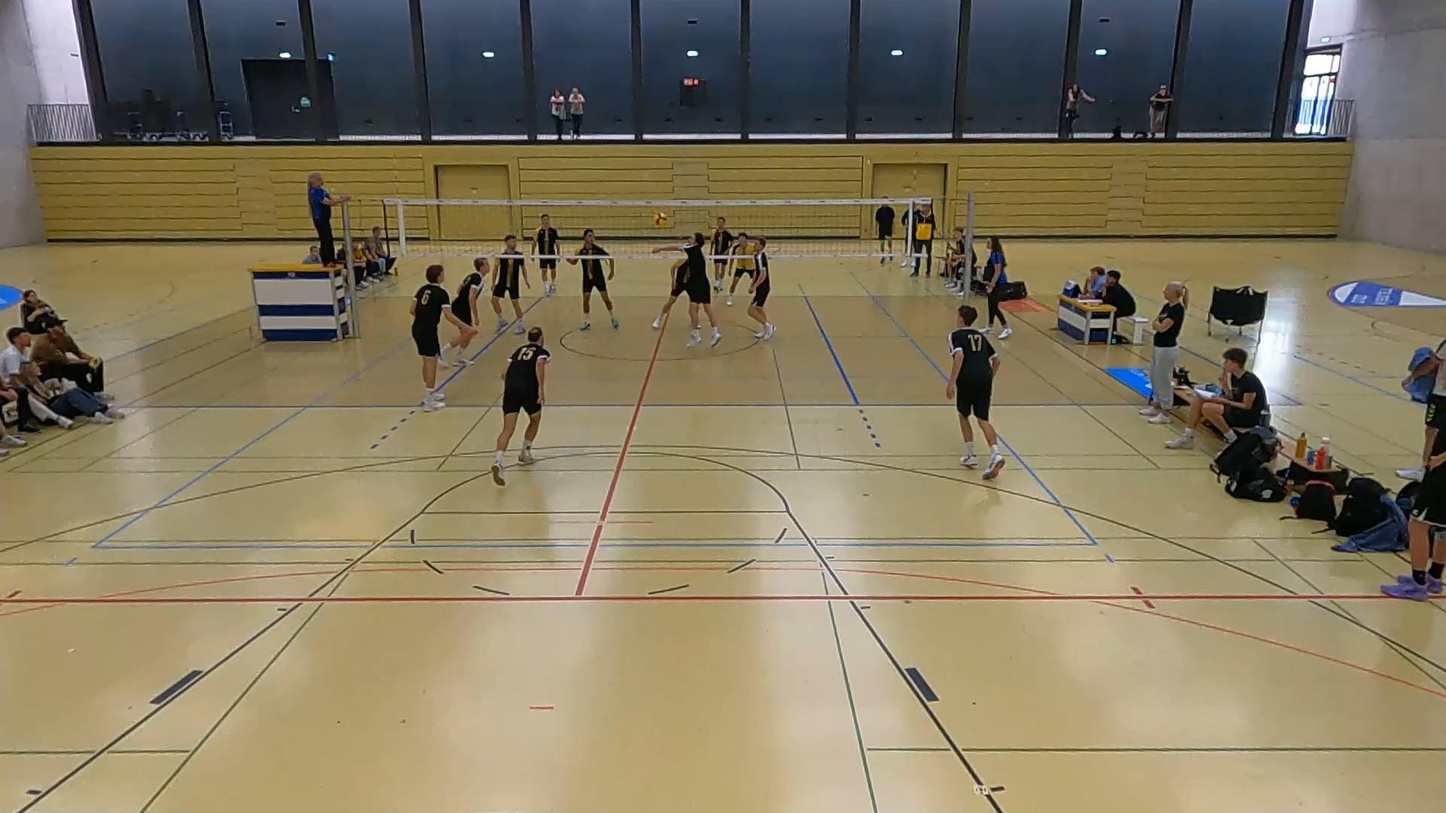Player: (946, 305, 1004, 479), (410, 264, 475, 411), (490, 327, 549, 486), (652, 233, 720, 347), (567, 229, 618, 330), (491, 236, 529, 333), (450, 257, 489, 327), (747, 239, 774, 340), (726, 232, 759, 306), (533, 214, 558, 295), (709, 217, 734, 291)
Set: (649, 228, 725, 358)
ball: (653, 211, 669, 228)
